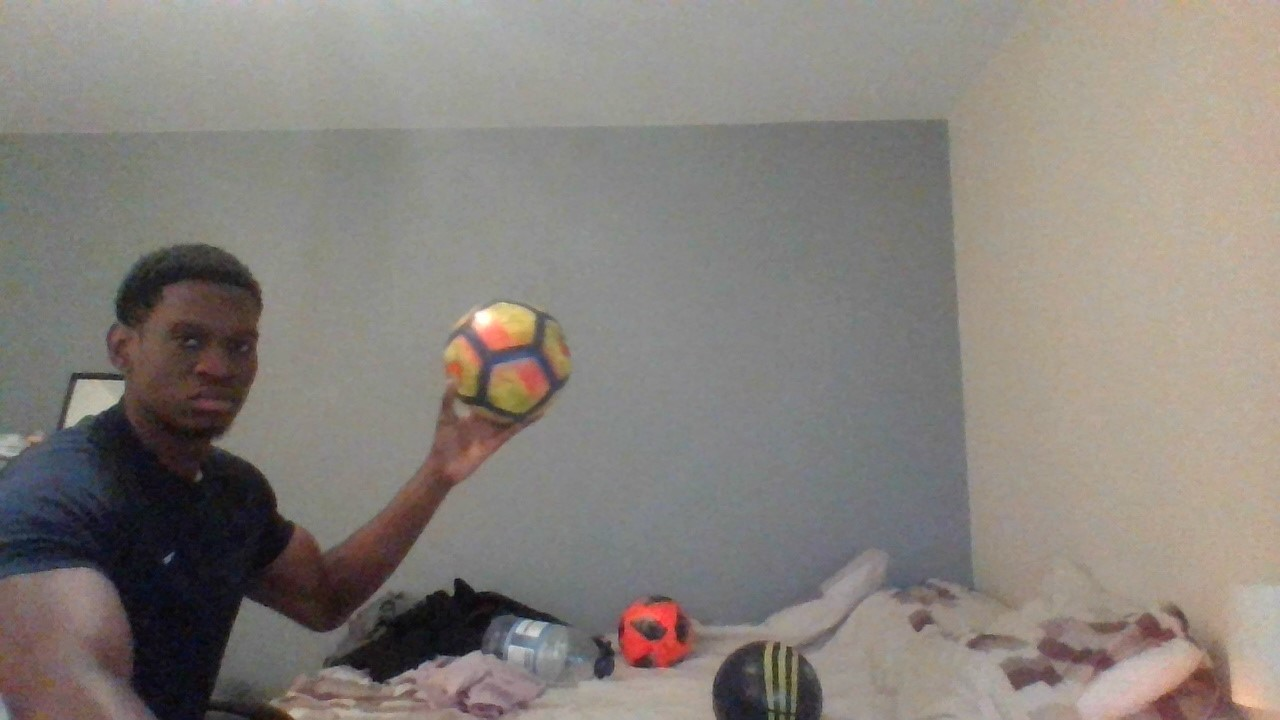football: (437, 298, 576, 422), (712, 643, 830, 719), (623, 592, 702, 671)
